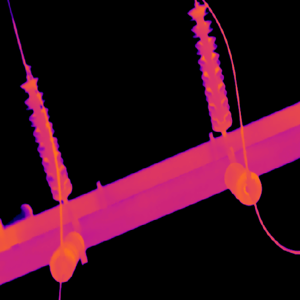insulator: (18, 75, 72, 201), (187, 1, 232, 133), (47, 228, 86, 282), (223, 157, 262, 205)
